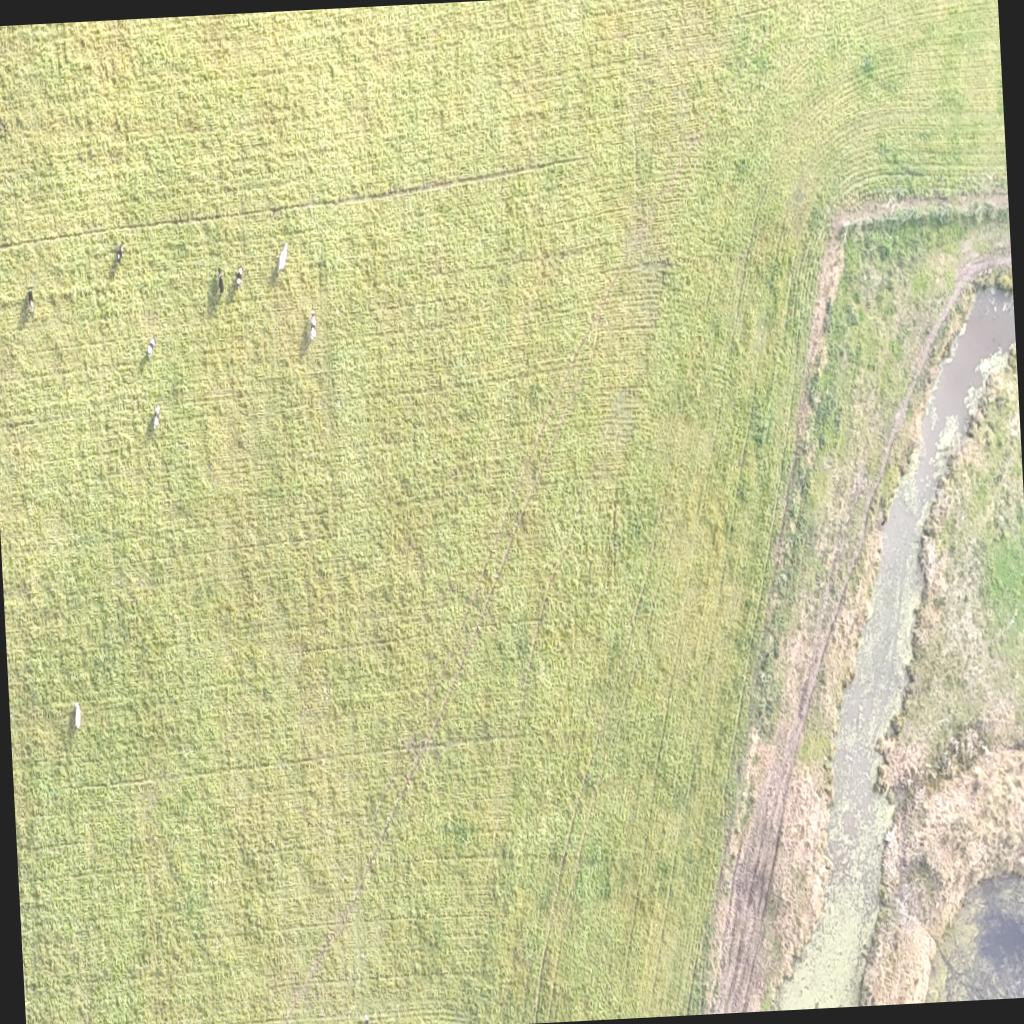cow: (277, 241, 290, 274), (308, 312, 318, 340), (152, 405, 162, 428), (74, 702, 82, 730), (27, 288, 35, 316), (116, 242, 126, 264), (148, 337, 158, 359), (235, 266, 244, 288), (217, 268, 224, 294)
